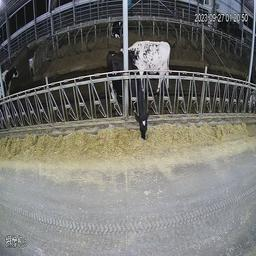cow: (107, 52, 153, 142), (97, 40, 160, 84), (0, 49, 27, 98), (109, 18, 123, 38)
